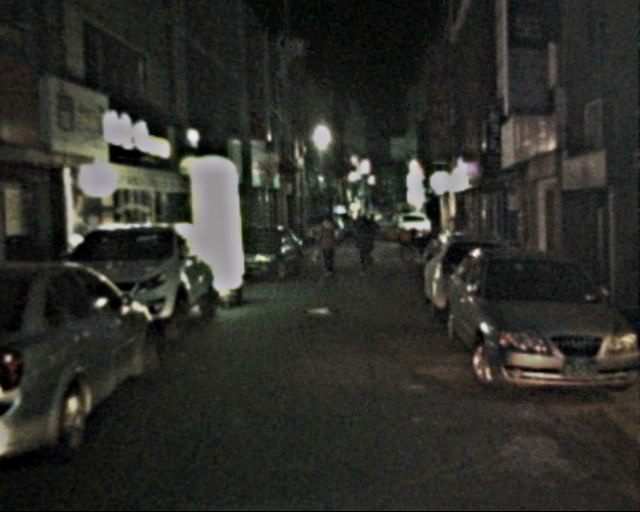person: (350, 212, 378, 281), (313, 216, 340, 282)
